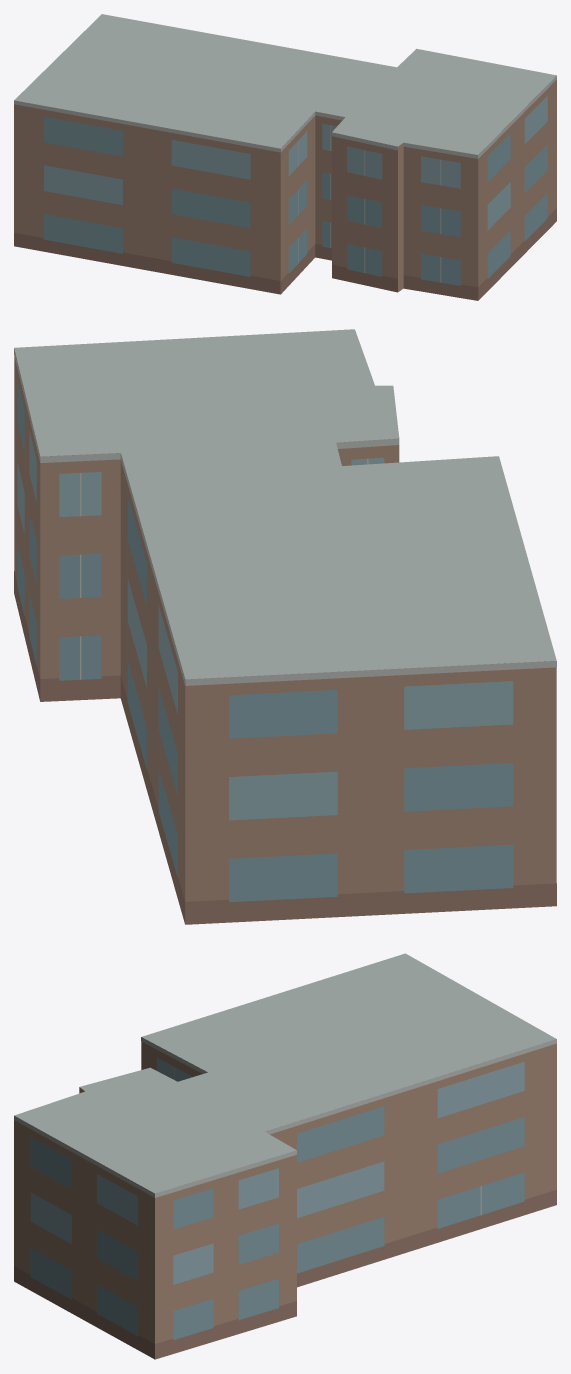
The model's file is survey-upis-32645688.glb.
The picture shows the model from 3 angles, top to bottom: view 1: azimuth 30°, elevation 25°; view 2: azimuth 150°, elevation 25°; view 3: azimuth 270°, elevation 25°; orthographic projection. The views are drawn at different scales.
Parts seen in each view (by area): view 1: survey-upis-32645688.tmp; view 2: survey-upis-32645688.tmp; view 3: survey-upis-32645688.tmp.
Part boxes in pixels (x1=…): survey-upis-32645688.tmp: x1=14, y1=14, x2=556, y2=300; survey-upis-32645688.tmp: x1=14, y1=329, x2=556, y2=924; survey-upis-32645688.tmp: x1=14, y1=953, x2=556, y2=1359.
Bounding box in the file's own units: 28.42 × 9.15 × 27.14.
